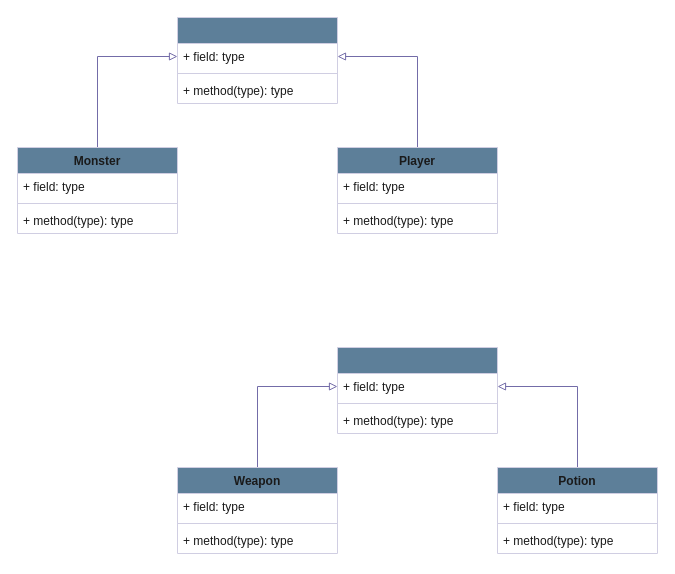
Some shapes in this 675 by 574 pixel diagram are drawn without their labels. Each missing label, with the box of its shape:
ICharacter: (176, 16, 338, 104)
IItem: (336, 346, 498, 434)
